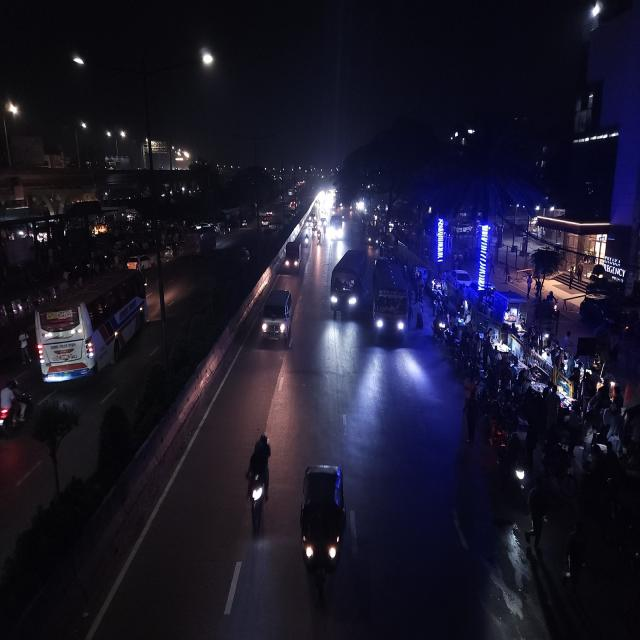bus: (32, 267, 150, 388), (371, 253, 413, 348), (328, 245, 368, 322), (182, 228, 219, 258), (327, 210, 345, 243)
car: (259, 285, 296, 352), (449, 266, 474, 292)
cng: (297, 458, 350, 600)
motorcycle: (243, 428, 273, 530), (490, 434, 531, 503), (0, 378, 30, 438), (314, 228, 322, 246)
pedestrian: (460, 386, 482, 444), (415, 303, 425, 331)
truck: (284, 238, 301, 275)
